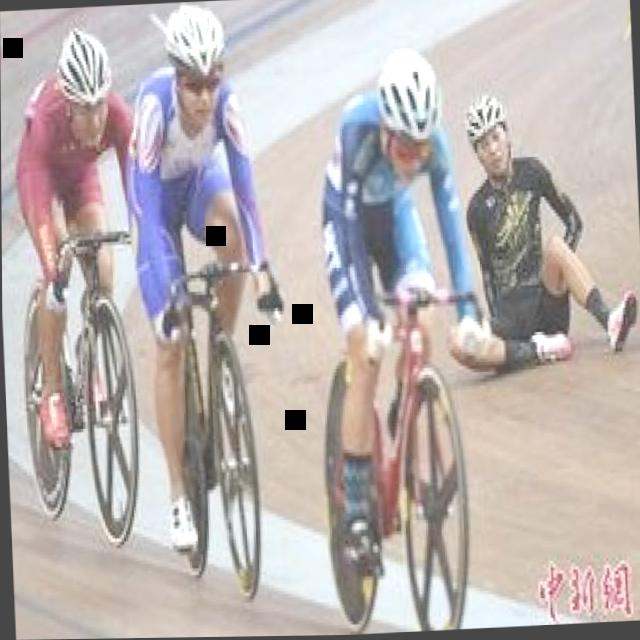Fall-Detected: (439, 68, 640, 380)
